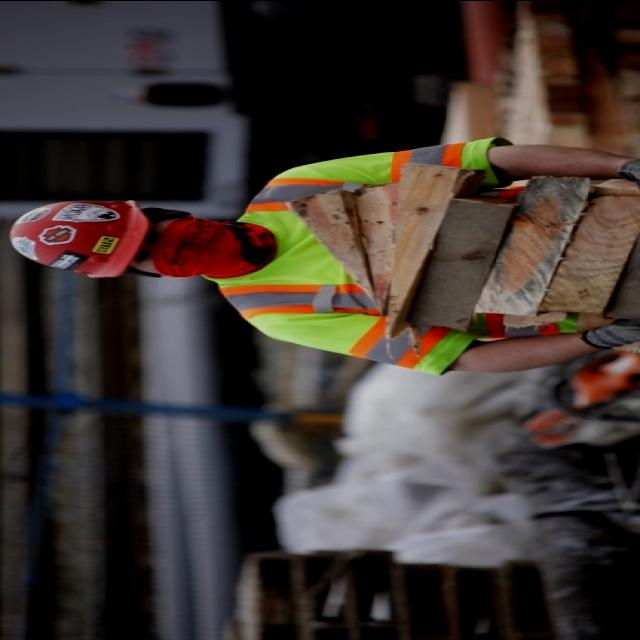Gloves: (574, 313, 640, 351), (619, 152, 640, 186)
Hard Hat: (3, 196, 149, 280)
Reflective Vest: (238, 127, 596, 371)
